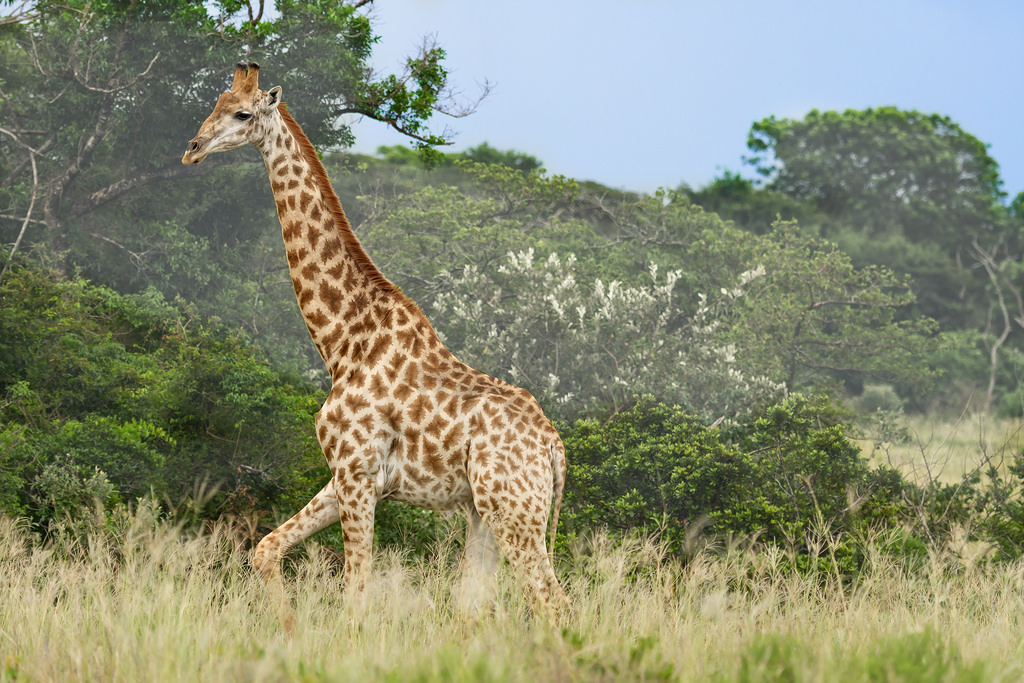giraffe: (175, 58, 597, 623)
